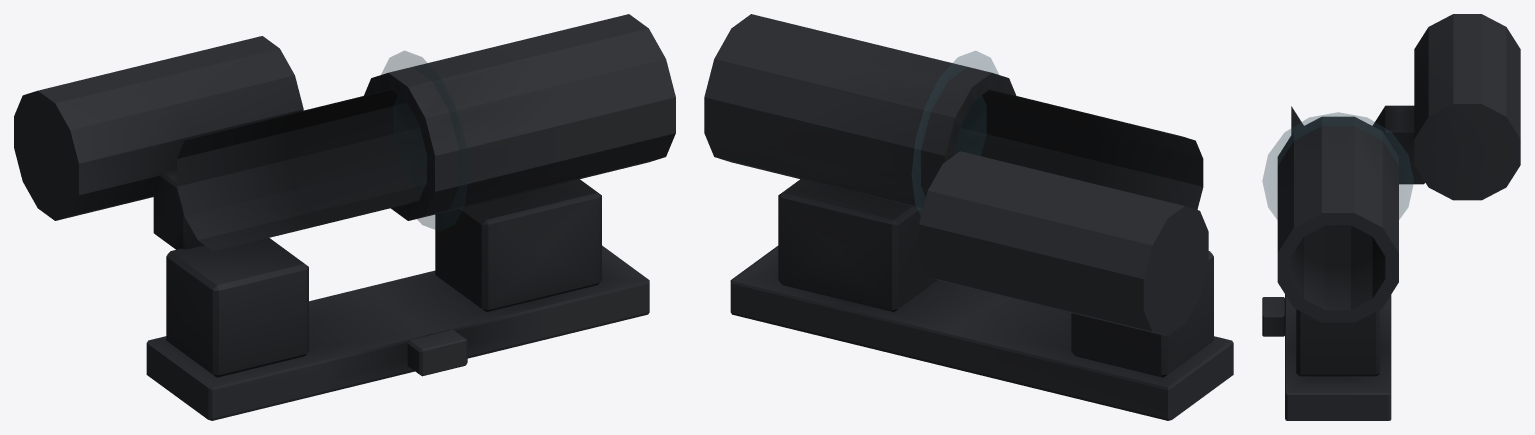
File: k-att-reddot-lpuntorojolupa.glb
3 views of the same model, side by side, from view 1: azimuth 30°, elevation 25°; view 2: azimuth 150°, elevation 25°; view 3: azimuth 270°, elevation 25° (orthographic). The views are drawn at different scales.
Visible parts, largest first — view 1: kit, lens; view 2: kit, lens; view 3: kit, lens.
Boxes of the visible parts, x1=… form: kit: x1=14, y1=14, x2=675, y2=420; lens: x1=381, y1=51, x2=468, y2=231; kit: x1=704, y1=14, x2=1233, y2=420; lens: x1=912, y1=51, x2=998, y2=214; kit: x1=1262, y1=14, x2=1520, y2=420; lens: x1=1262, y1=112, x2=1413, y2=219.
Size of the model in its own units: 0.128 by 0.067 by 0.068.
